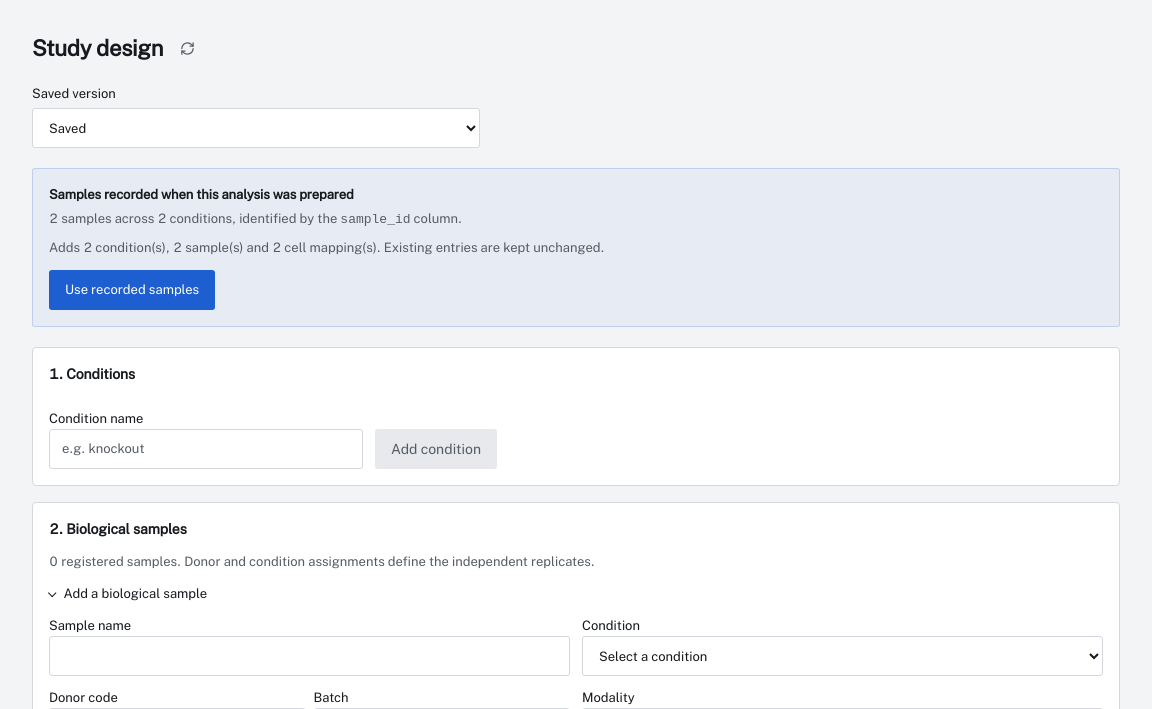
StudyDesign › registers and maps the samples recorded when a multi-condition analysis was prepared
Click the button "Use recorded samples": (132, 290) [49, 270, 215, 310]
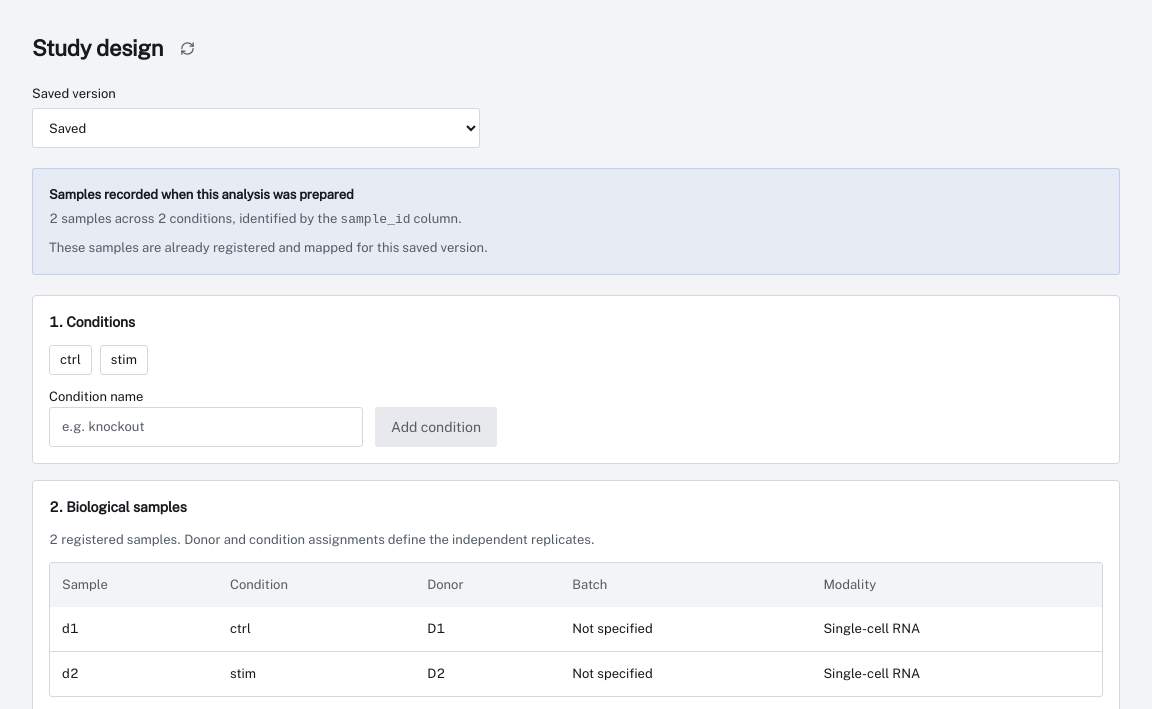
expect the text "already registered and mapped" is shown: met, box [49, 240, 488, 255]
